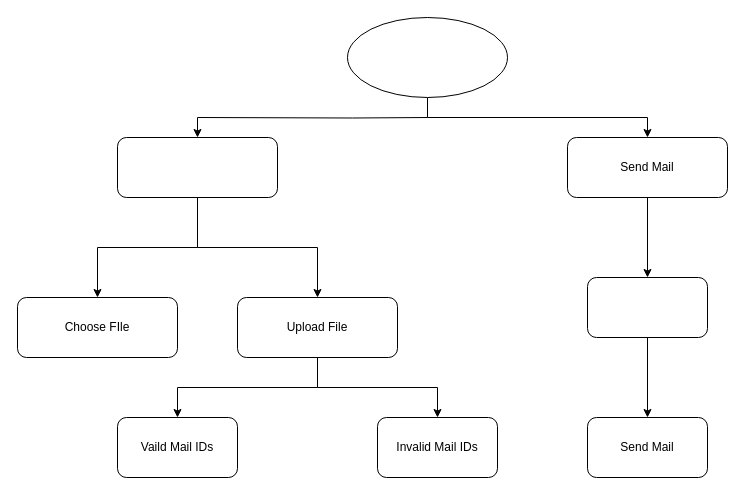
The diagram is 745 pixels wide and 495 high, and some of its shapes have lost their labels. Each missing label, with the box of its shape:
Check The Mail: (116, 136, 278, 198)
Get the Details to Send Mail: (586, 276, 708, 338)
MMD Home Page: (346, 16, 508, 98)
